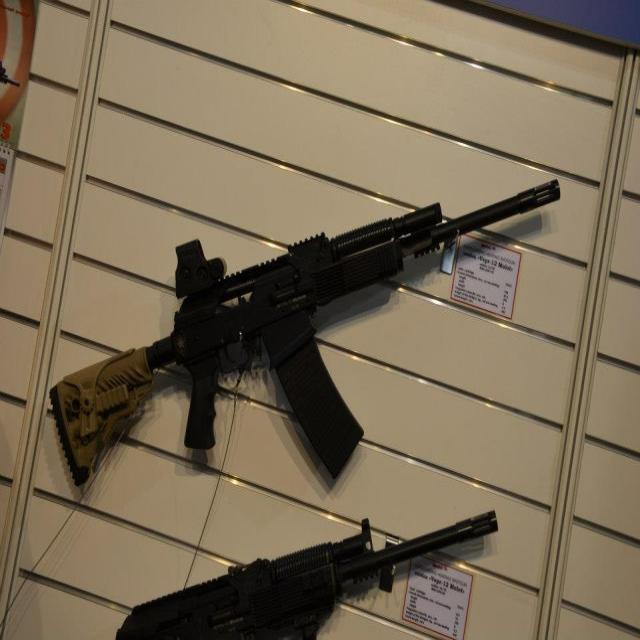firearm: (48, 177, 561, 491), (115, 508, 498, 640)
